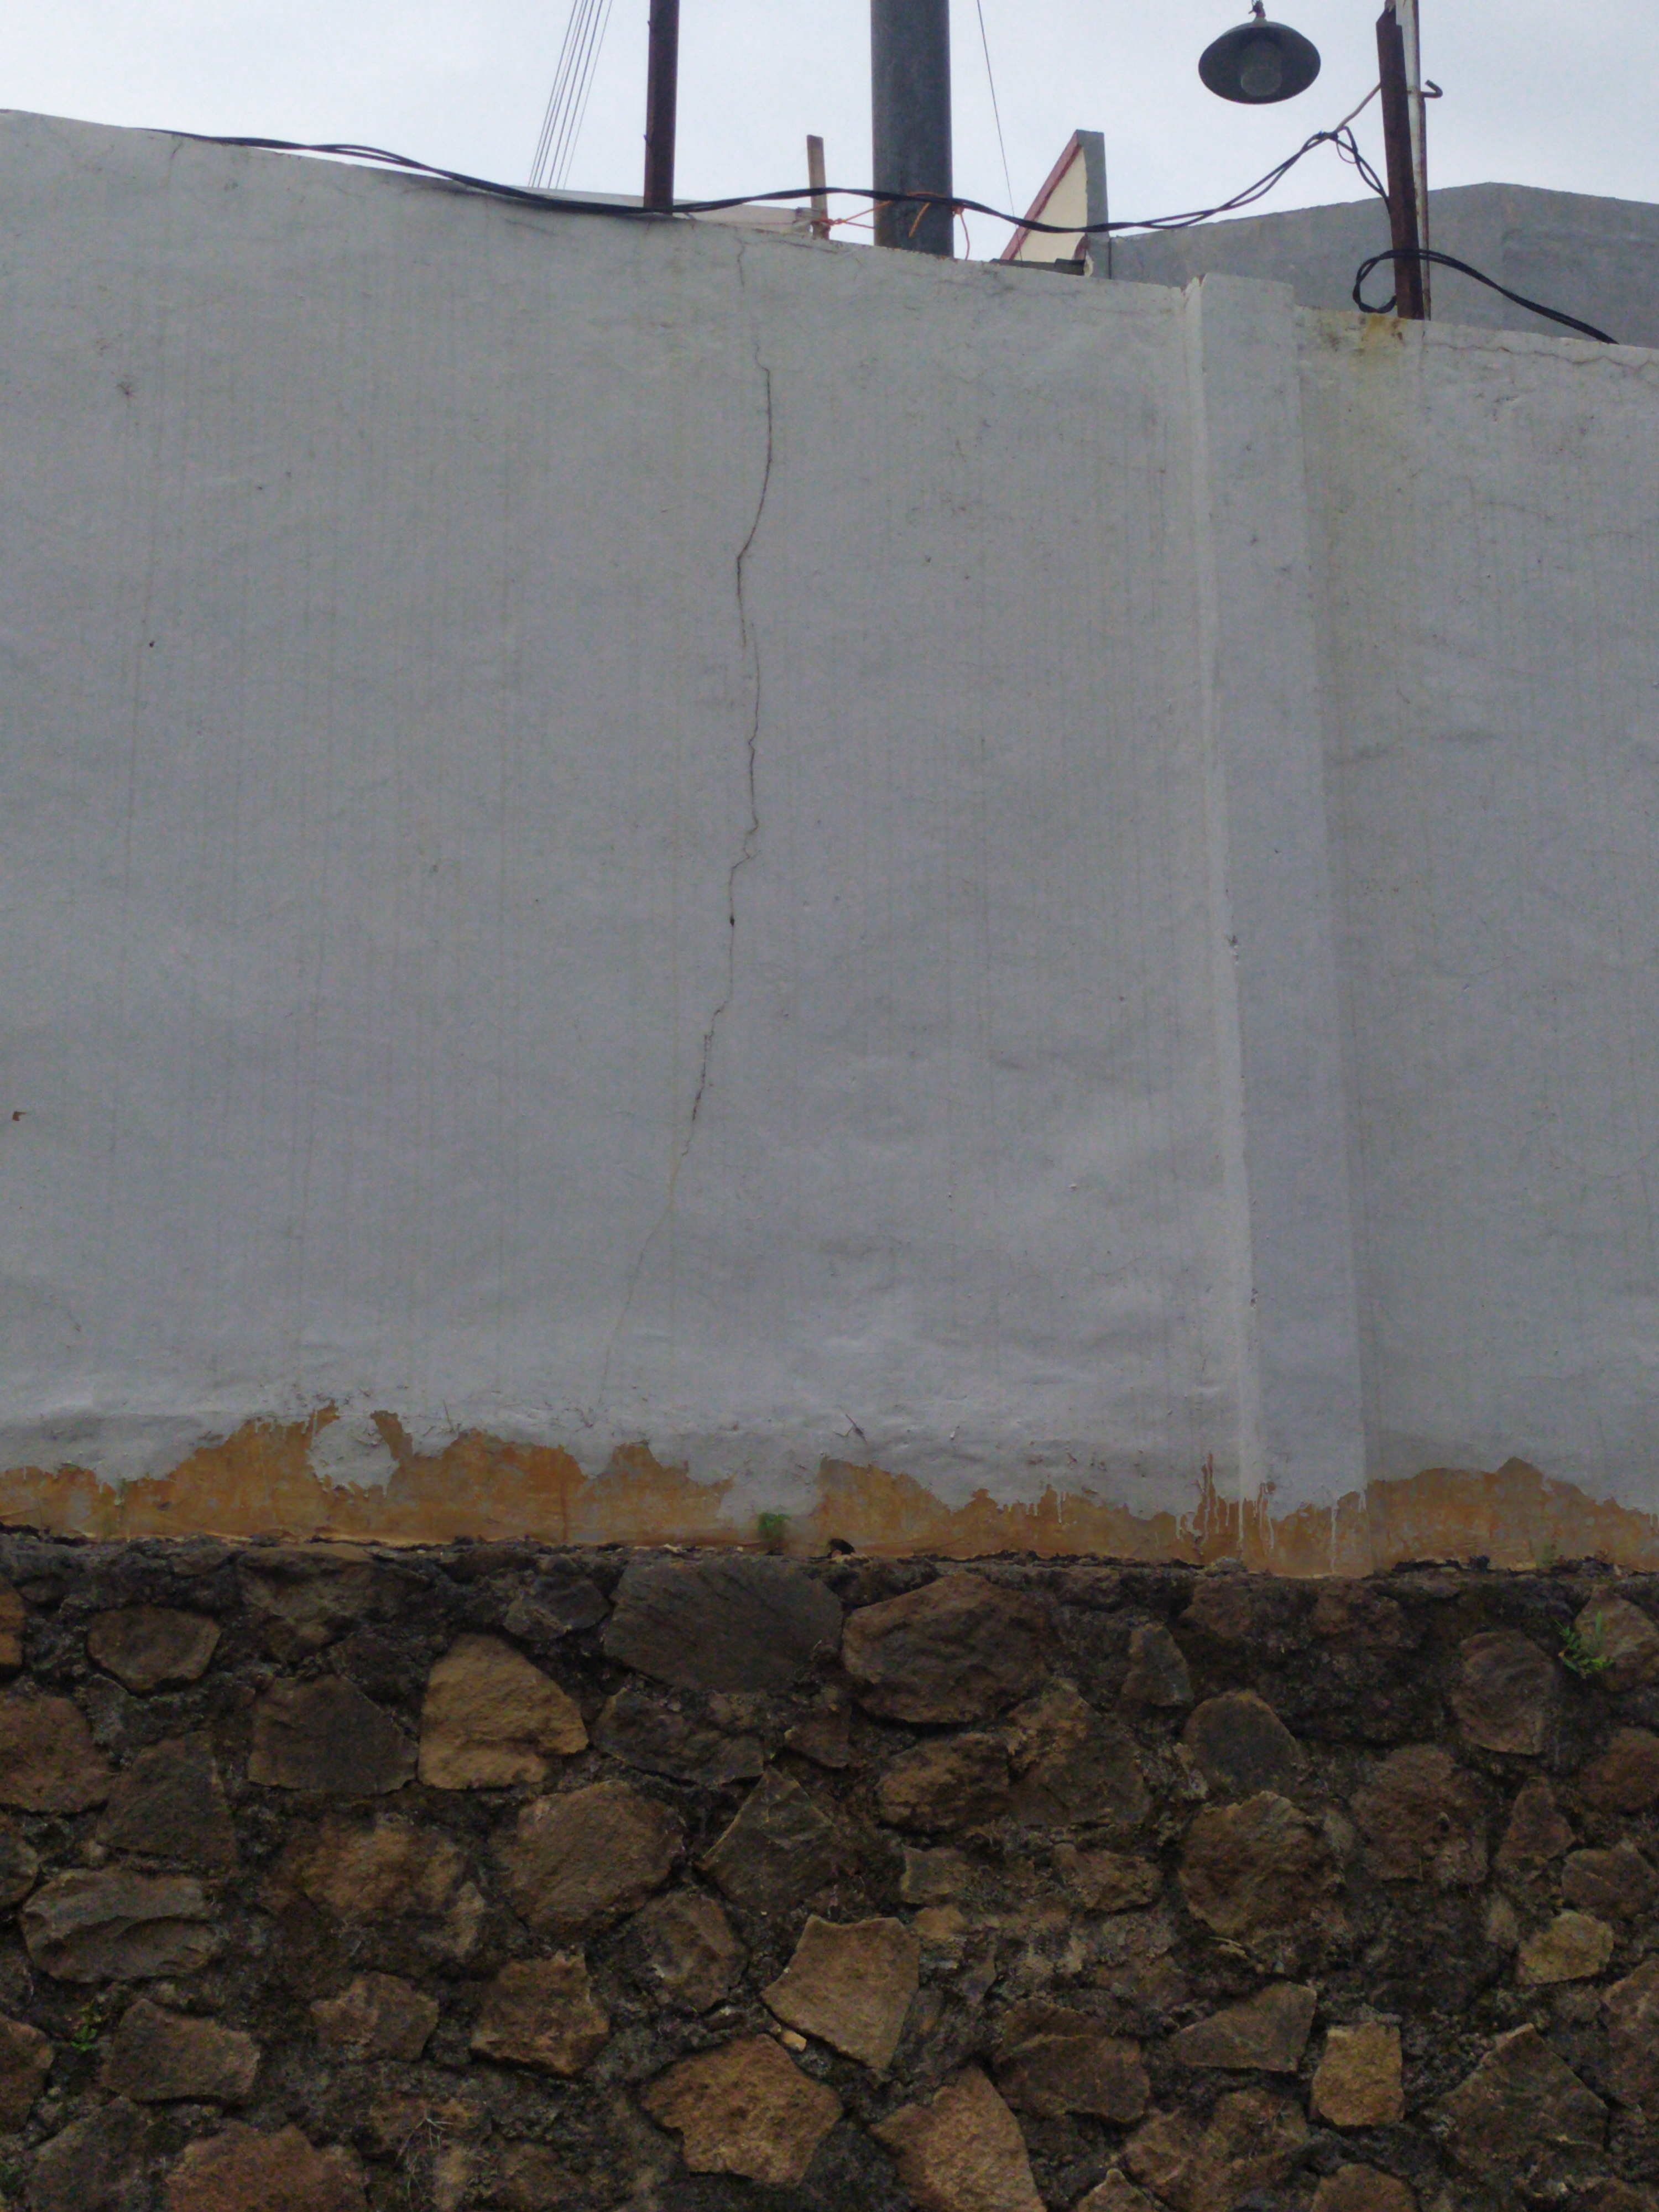crack: (608, 223, 789, 1348), (1412, 329, 1657, 385)
